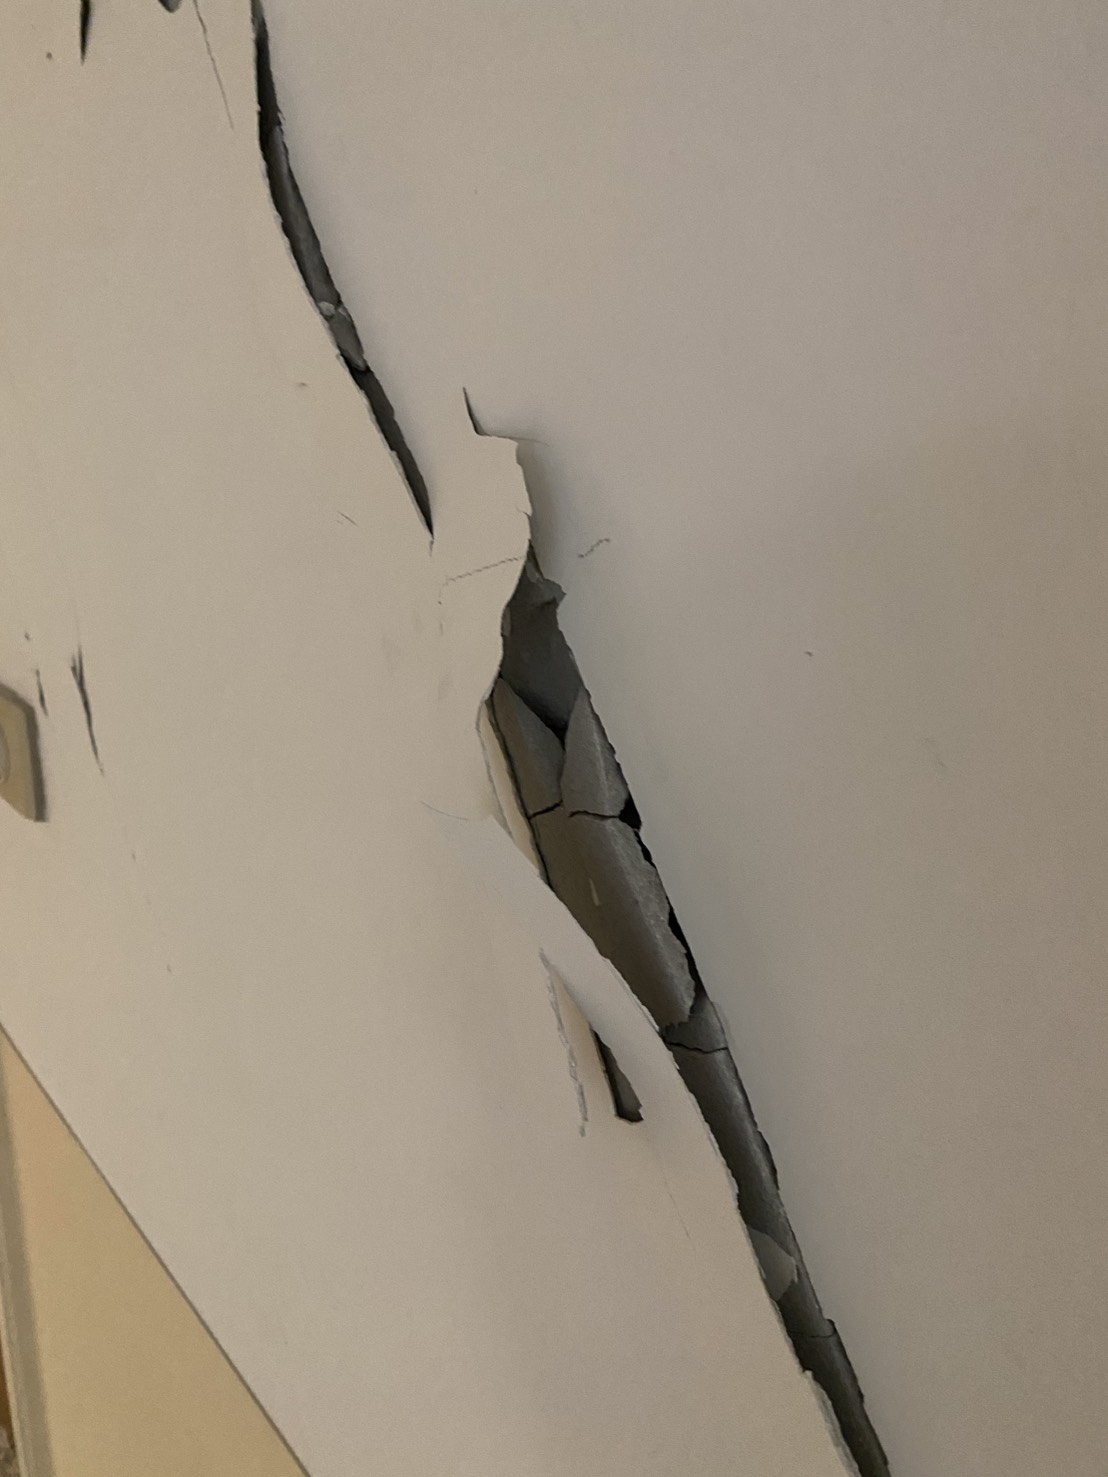Medium: (159, 8, 874, 1389)
